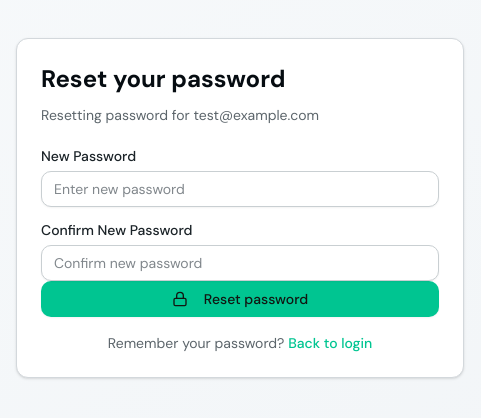
Test: ResetPassword Page › Password Validation › shows error when password has no uppercase letter
Type "password123!" into the password field with placeholder "Enter new password" at x=240, y=189, box x1=41 y1=171 x2=439 y2=207
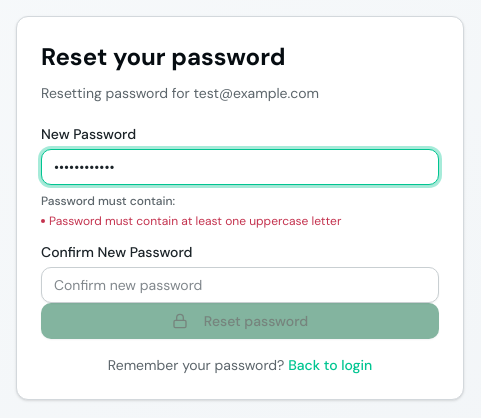
expect the list item "Password must contain at least one uppercase letter" is shown: met, box x1=41 y1=213 x2=341 y2=229
